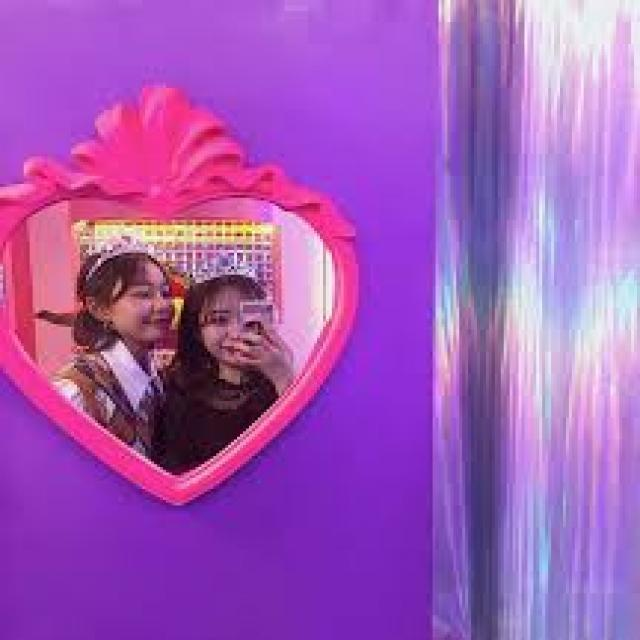Phone: (236, 298, 280, 366)
